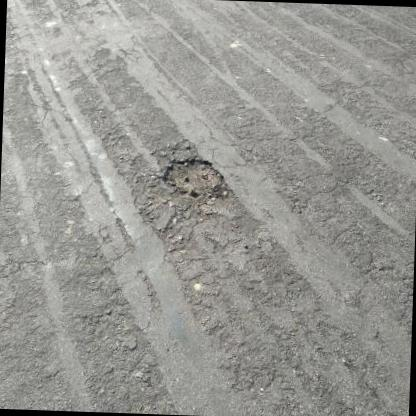pothole: (160, 155, 228, 199)
